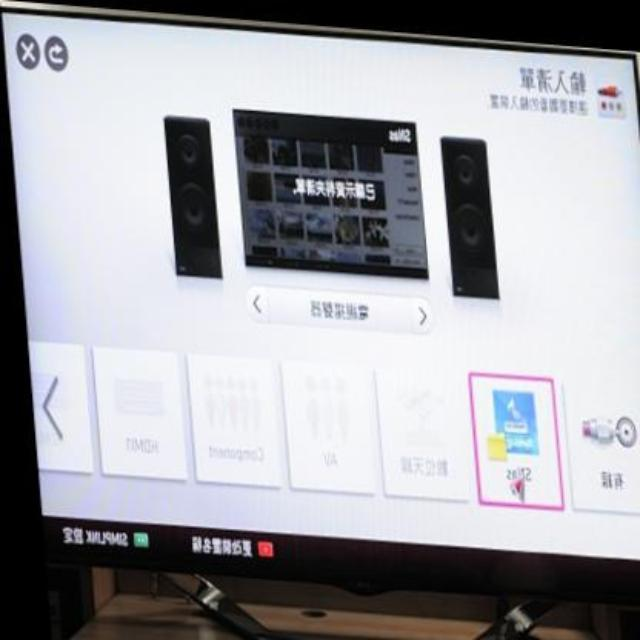Television: (0, 12, 640, 598)
